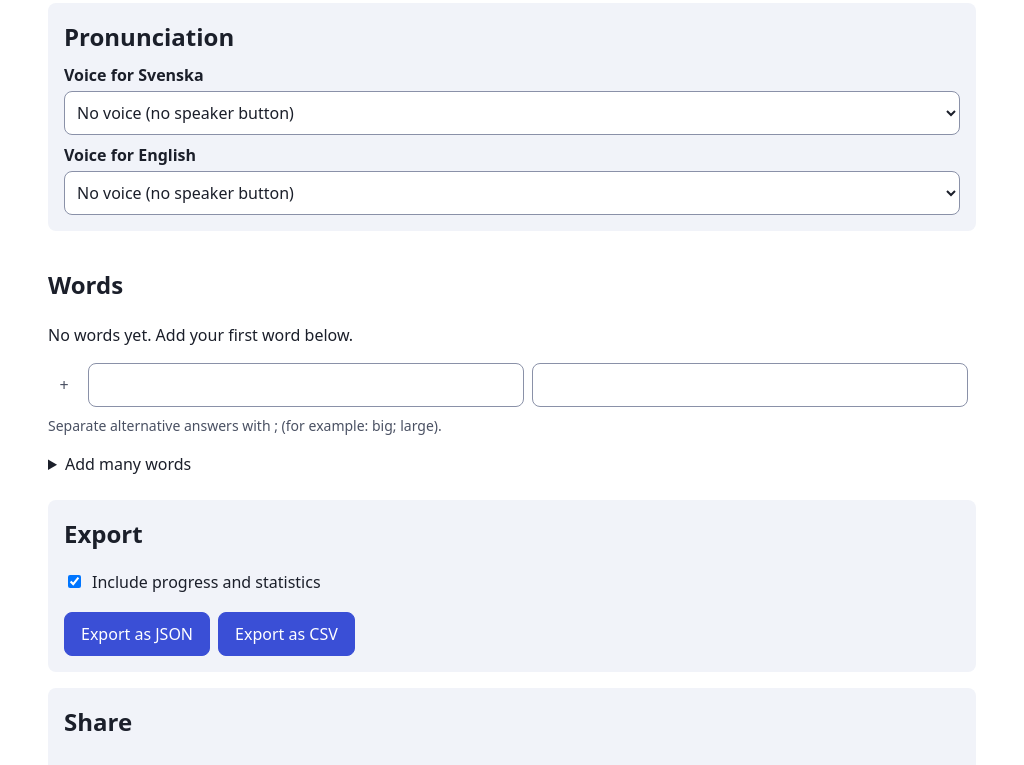
Test case: adding pairs › FR-SET-6: Enter moves A to B and saves from B, then focuses the next empty row
The image size is (1024, 765).
(page scrolled)
Expected: the heading "Words" is shown, [48,268,123,301]
Type "hund" into the field named "Svenska, new word" at {"x": 306, "y": 385}, box [88,363,524,407]
Then press Enter
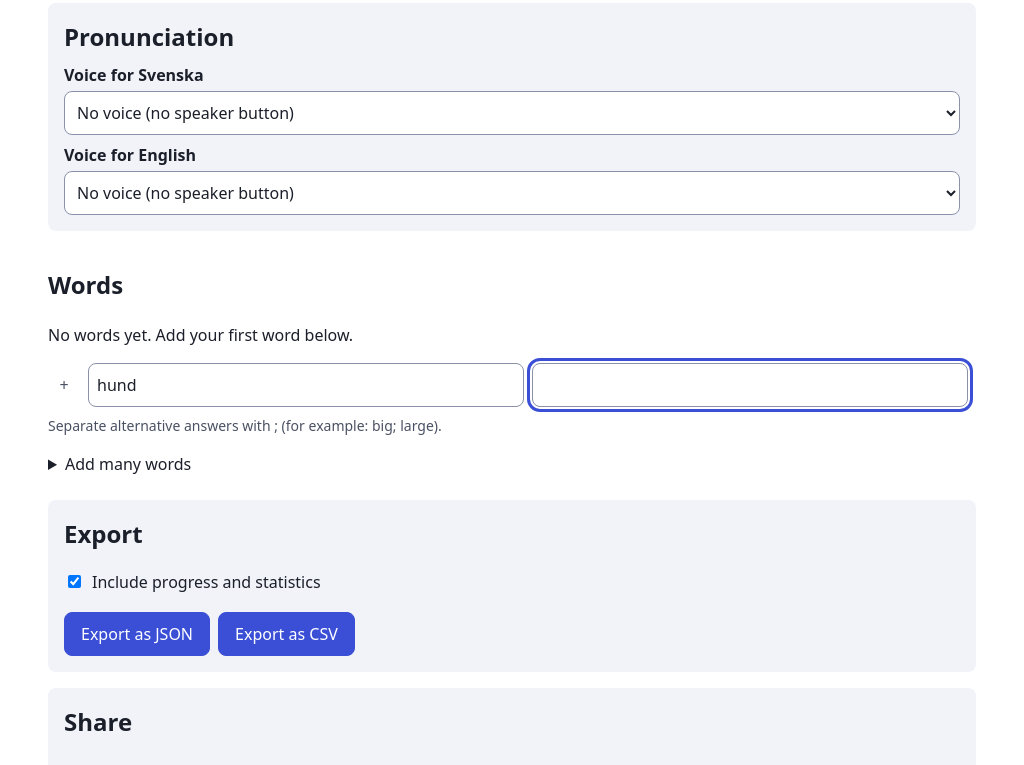
Type "dog" into the field named "English, new word" at {"x": 750, "y": 385}, box [532,363,968,407]
Then press Enter
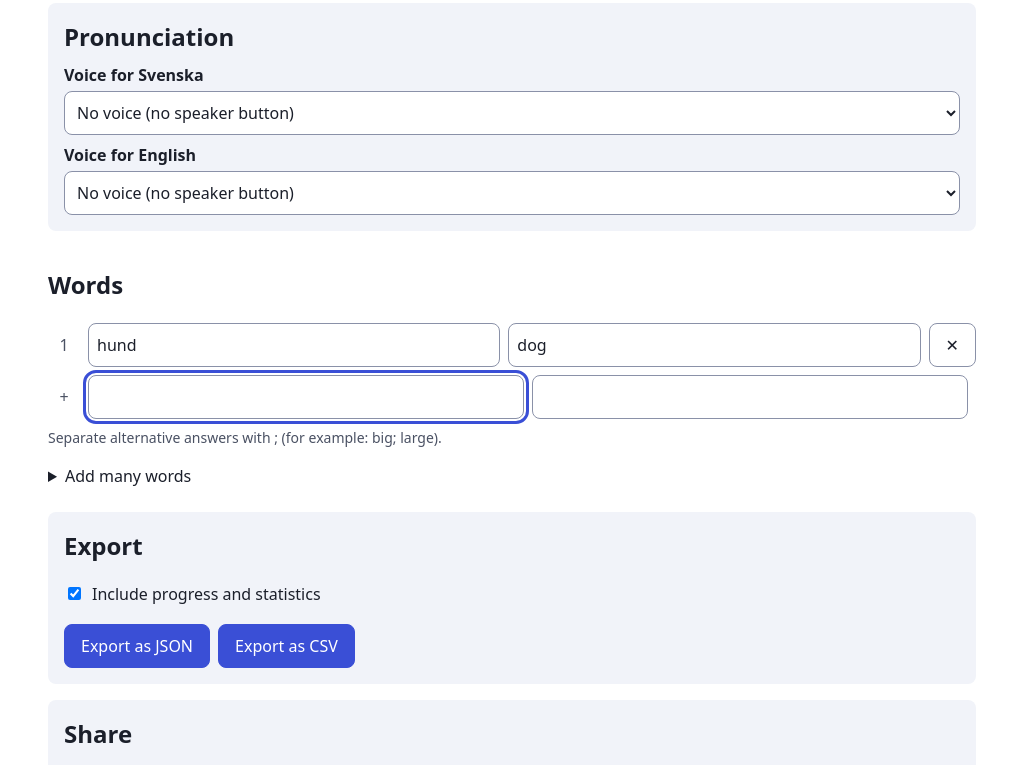
Expected: the field named "Svenska, word 1" holds "hund", [88,323,500,367]
Expected: the field named "English, word 1" holds "dog", [508,323,921,367]
Expected: the field named "Svenska, new word" is empty, [88,375,524,419]
